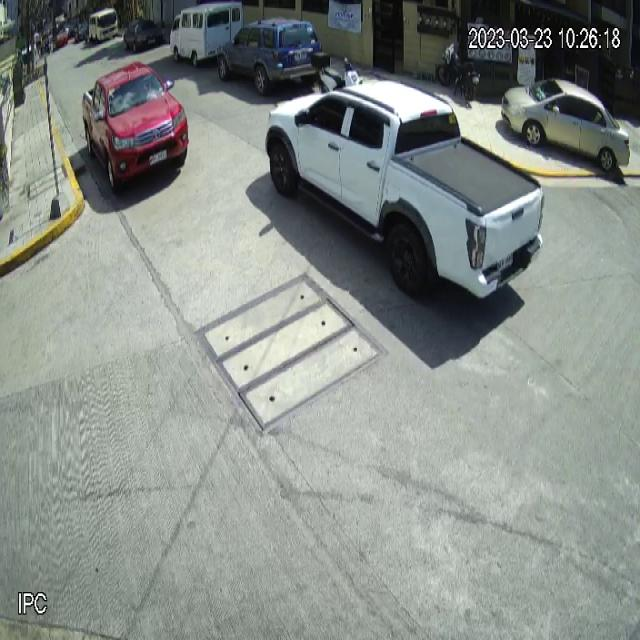Car: (265, 78, 545, 302), (81, 60, 189, 197), (501, 77, 631, 173), (216, 16, 323, 98)
Van: (169, 0, 243, 68)
